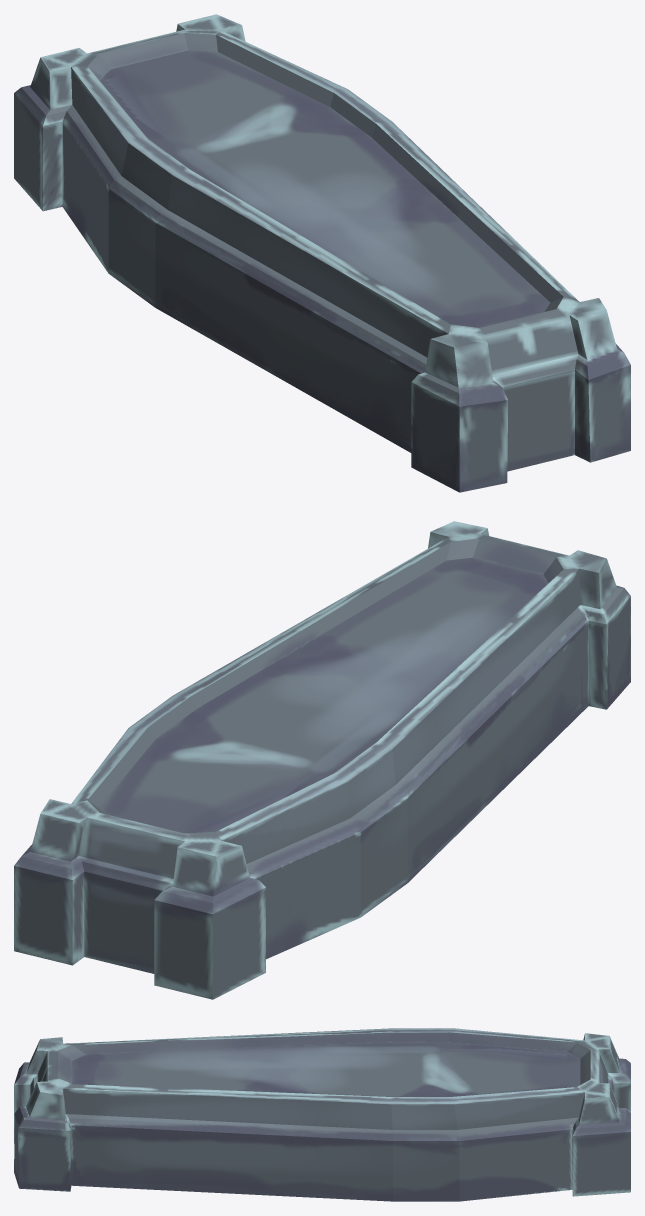
The model's file is Coffin.fbx.
3 views of the same model, one above another, from view 1: azimuth 30°, elevation 25°; view 2: azimuth 150°, elevation 25°; view 3: azimuth 270°, elevation 25° (orthographic). The views are drawn at different scales.
Parts seen in each view (by area): view 1: Coffin; view 2: Coffin; view 3: Coffin.
Boxes of the visible parts, box(x1,y1,x2,y2) form: Coffin: box(14, 14, 630, 492); Coffin: box(14, 521, 630, 999); Coffin: box(14, 1028, 630, 1201).
Bounding box in the file's own units: 151 × 76.36 × 452.
